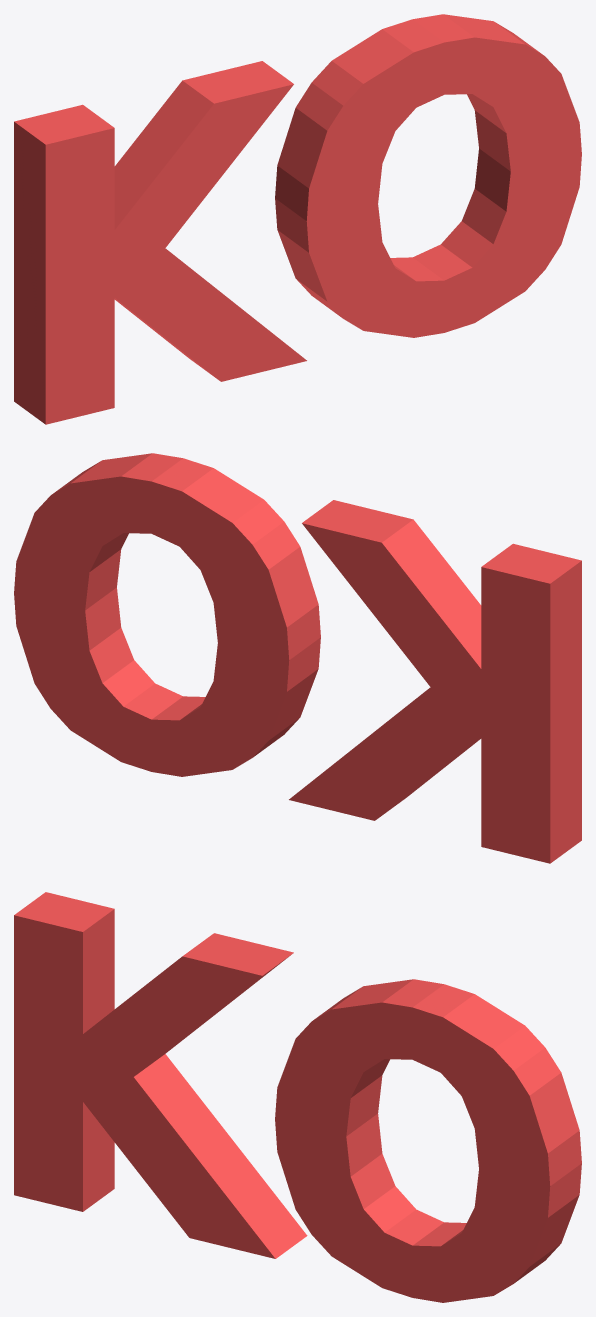
Rendered from suku_besar_ko.glb.
3 renders of one model, top to bottom at view 1: azimuth 30°, elevation 25°; view 2: azimuth 150°, elevation 25°; view 3: azimuth 330°, elevation 25°, orthographic.
Parts seen in each view (by area): view 1: geometry_0; view 2: geometry_0; view 3: geometry_0.
Part boxes in pixels (left/top/right/bottom): geometry_0: left=14, top=14, right=581, bottom=424; geometry_0: left=14, top=453, right=581, bottom=863; geometry_0: left=14, top=892, right=581, bottom=1302.
Bounding box in the file's own units: 14.61 × 7.56 × 1.5.
